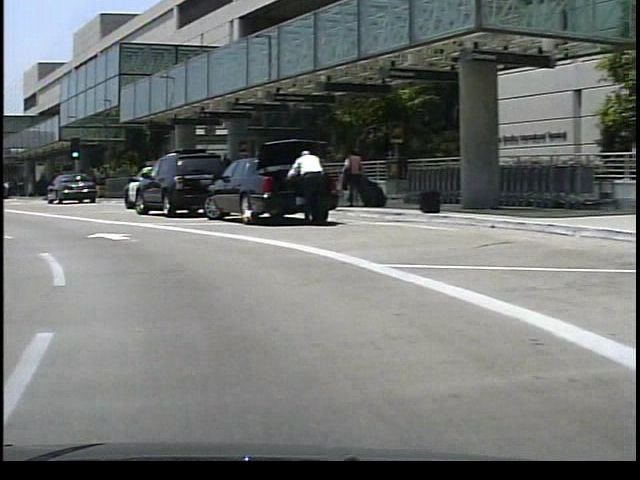person: (280, 146, 327, 230), (337, 147, 359, 211), (335, 145, 355, 212)
